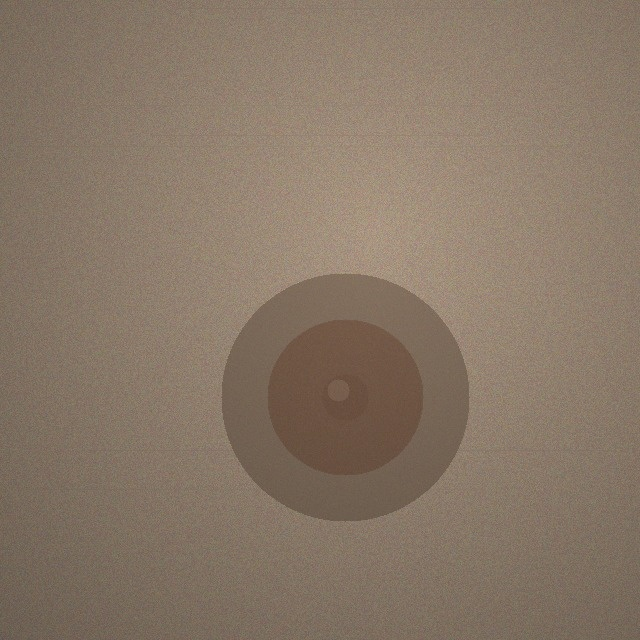good: (221, 273, 469, 521)
